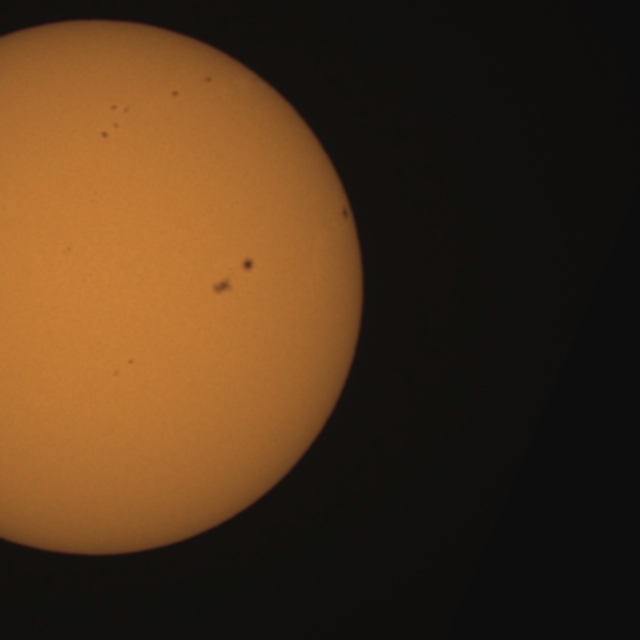sunspot: (210, 256, 254, 296), (108, 103, 130, 131), (100, 114, 123, 140), (210, 276, 234, 298), (111, 357, 135, 378), (109, 103, 130, 116), (240, 256, 255, 274), (340, 205, 351, 222), (99, 130, 110, 140), (62, 245, 73, 255), (203, 75, 213, 85), (170, 89, 180, 98), (126, 357, 135, 366)
